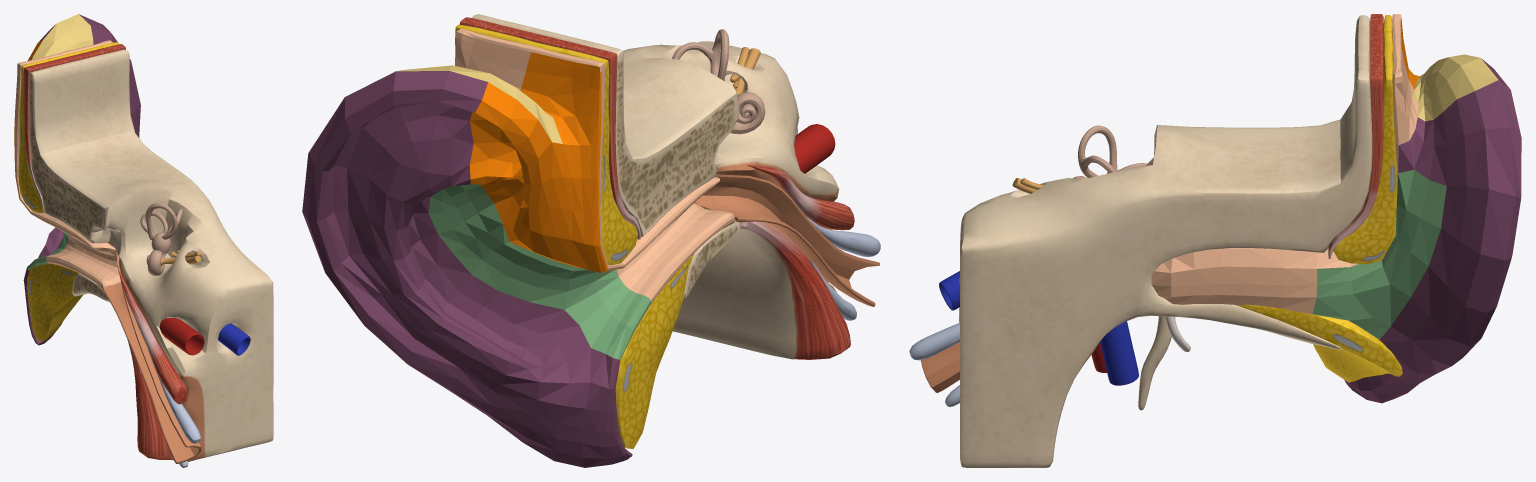
File: ear.fbx
3 renders of one model, left to right at view 1: azimuth 30°, elevation 25°; view 2: azimuth 150°, elevation 25°; view 3: azimuth 270°, elevation 25°, orthographic. The views are drawn at different scales.
Visible parts, largest first — view 1: bone, auricle, auditory_tube, fat_bottom, snail, muscle, fat_top, muscle_top, vein_red, nerve, vein_blue; view 2: auricle, bone, auditory_tube, fat_bottom, fat_top, muscle_top, snail, muscle, vein_red, nerve; view 3: bone, auricle, fat_top, fat_bottom, muscle_top, vein_blue, snail, auditory_tube, nerve.
Part boxes in pixels (x1,y1,x2,y2): bone: [29, 49, 273, 461]; auricle: [14, 14, 140, 345]; auditory_tube: [103, 252, 201, 463]; fat_bottom: [27, 263, 82, 341]; snail: [140, 203, 200, 275]; muscle: [118, 271, 187, 404]; fat_top: [18, 42, 119, 212]; muscle_top: [24, 44, 125, 212]; vein_red: [159, 318, 204, 355]; nerve: [147, 348, 200, 443]; vein_blue: [218, 323, 250, 355]; auricle: [302, 28, 735, 467]; bone: [472, 14, 850, 359]; auditory_tube: [694, 174, 879, 306]; fat_bottom: [615, 254, 694, 449]; fat_top: [455, 25, 637, 265]; muscle_top: [459, 17, 641, 239]; snail: [672, 29, 765, 134]; muscle: [747, 164, 854, 230]; vein_red: [794, 124, 835, 173]; nerve: [806, 216, 880, 256]; bone: [959, 15, 1372, 467]; auricle: [1151, 14, 1521, 403]; fat_top: [1333, 15, 1397, 264]; fat_bottom: [1236, 304, 1402, 382]; muscle_top: [1328, 14, 1383, 258]; vein_blue: [939, 271, 1138, 385]; snail: [1012, 125, 1146, 193]; auditory_tube: [921, 342, 959, 392]; nerve: [909, 323, 959, 360].
Size of the model in its own units: 5.01 by 7.96 by 11.22.
